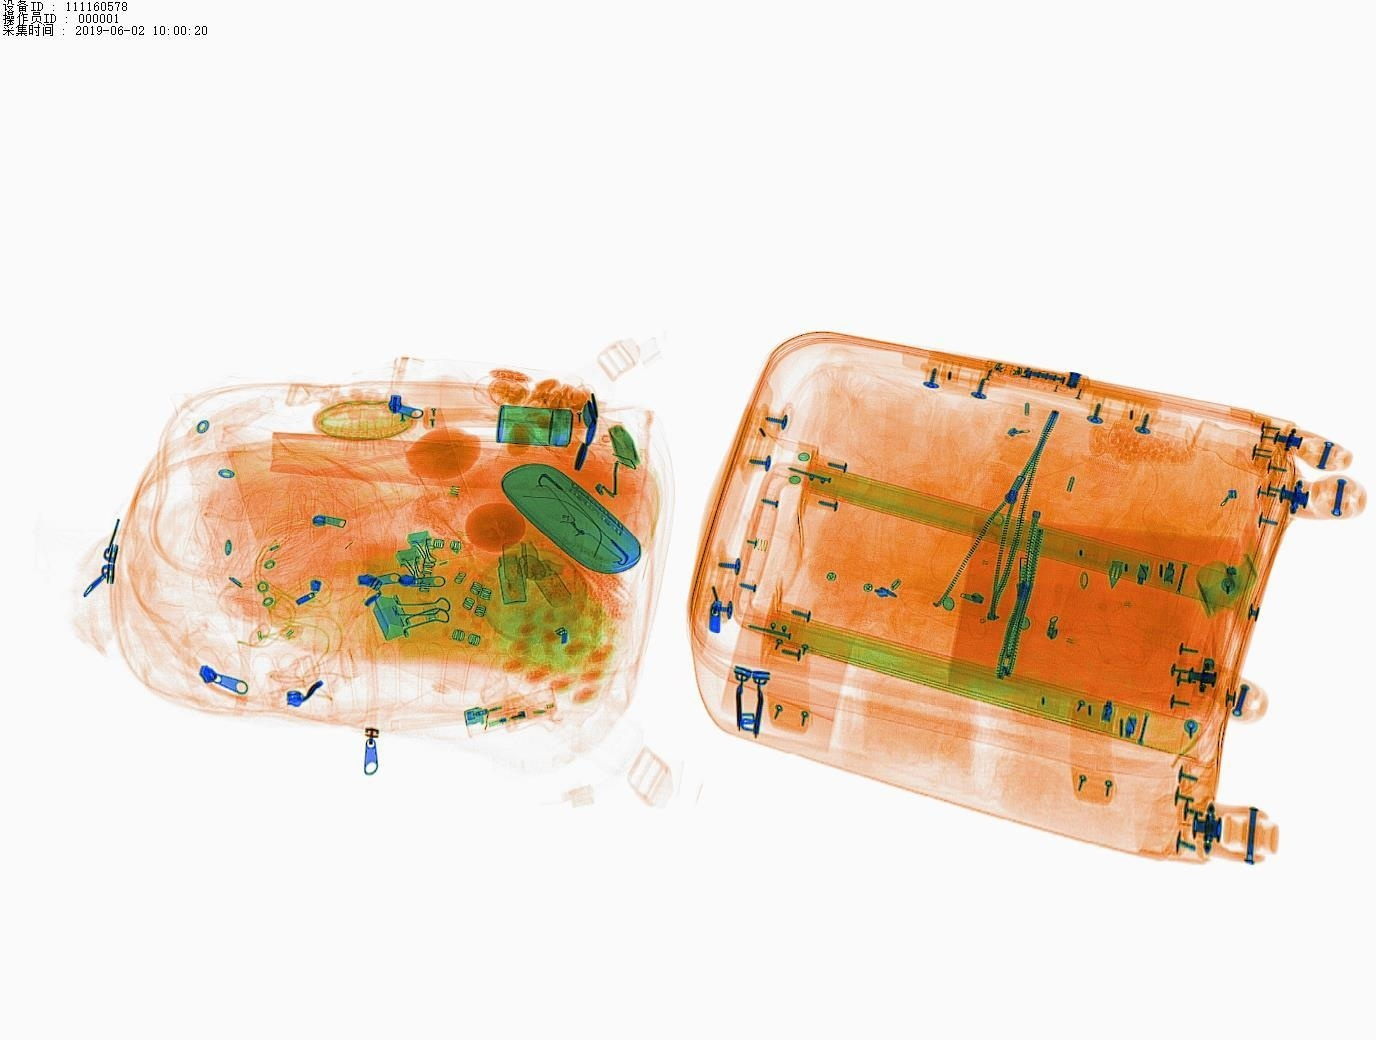NonmetallicFire: (458, 670, 590, 734)
